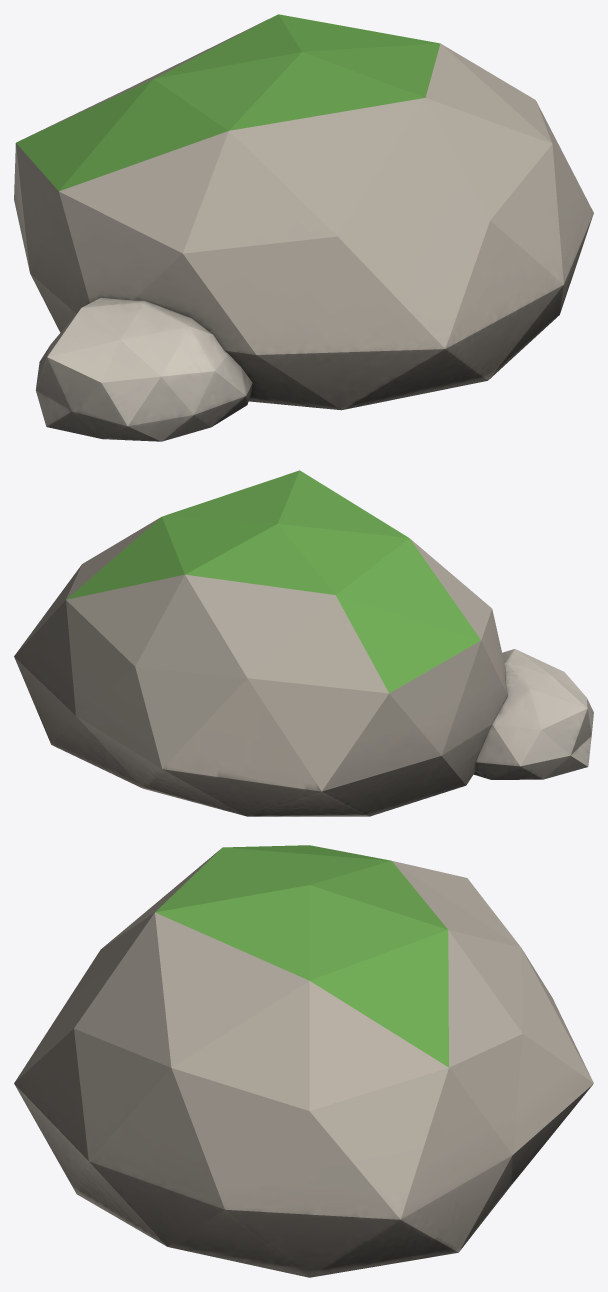
Rendered from rock_medium.glb.
3 views of the same model, one above another, from view 1: azimuth 30°, elevation 25°; view 2: azimuth 150°, elevation 25°; view 3: azimuth 270°, elevation 25° (orthographic). The views are drawn at different scales.
Visible parts, largest first — view 1: rock_medium; view 2: rock_medium; view 3: rock_medium.
Boxes of the visible parts, x1,y1,x2,y2 form: rock_medium: [14, 14, 593, 441]; rock_medium: [14, 470, 593, 816]; rock_medium: [14, 845, 593, 1277].
Size of the model in its own units: 0.7605 by 0.3578 by 0.6336.
Materials: 3 (3 with a texture image).
